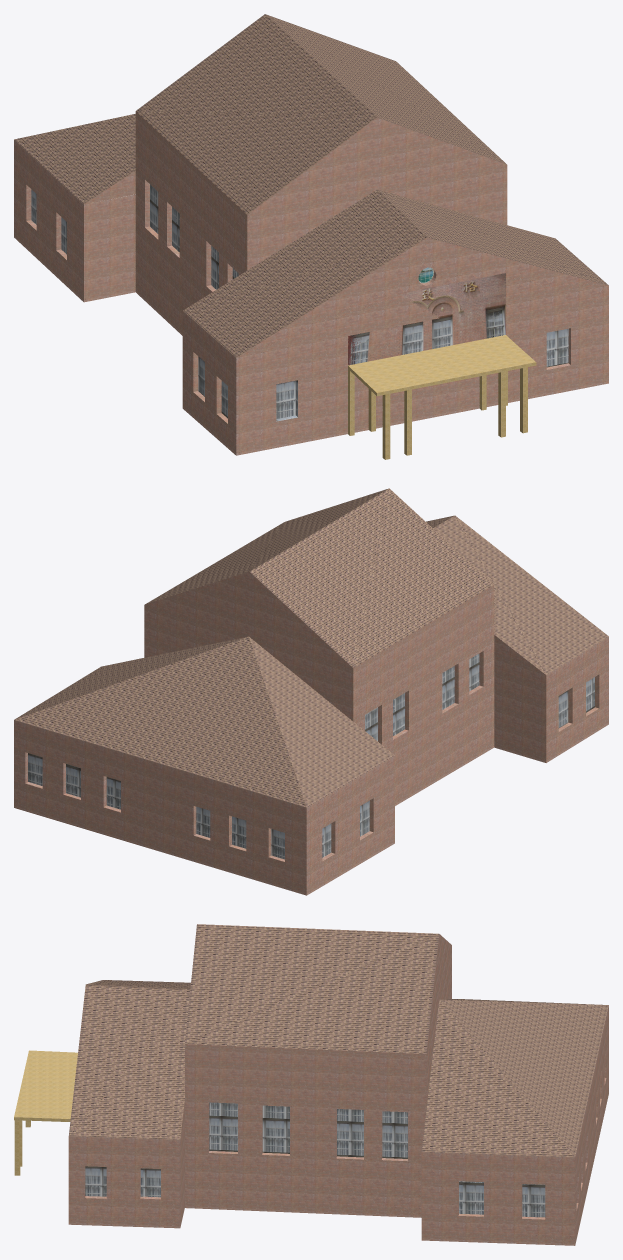
File: gzt.gltf
The picture shows the model from 3 angles, top to bottom: view 1: azimuth 30°, elevation 25°; view 2: azimuth 150°, elevation 25°; view 3: azimuth 270°, elevation 25°; orthographic projection. The views are drawn at different scales.
Visible parts, largest first — view 1: Component#1; view 2: Component#1; view 3: Component#1.
Boxes of the visible parts, bbox=[...] form: Component#1: bbox=[14, 14, 608, 459]; Component#1: bbox=[14, 488, 608, 895]; Component#1: bbox=[14, 924, 608, 1245].
Bounding box in the file's own units: 25.22 × 15.22 × 35.77.
Materials: 9 (7 with a texture image).
